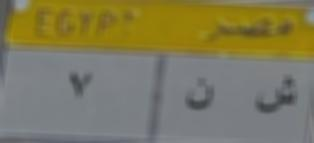7: (63, 66, 102, 105)
noon: (181, 73, 219, 118)
sheen: (244, 68, 306, 119)
